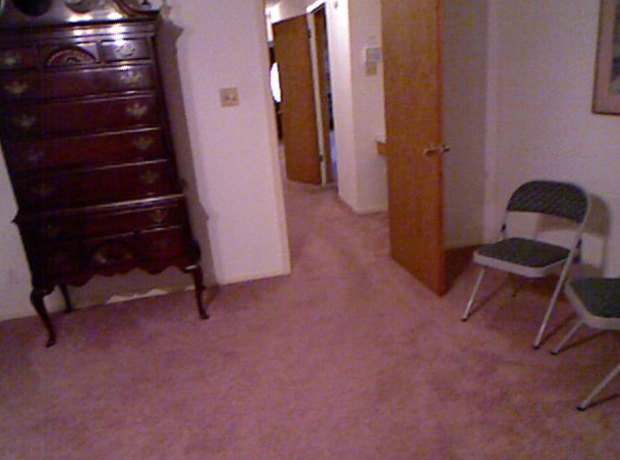cabinet: (40, 7, 162, 352)
cabinetDoor: (9, 71, 156, 97), (43, 173, 155, 199), (35, 104, 147, 129), (32, 140, 144, 165)
door: (389, 5, 443, 255), (467, 179, 581, 269), (282, 23, 313, 180)
openedDoor: (289, 1, 443, 269), (290, 6, 337, 184)
